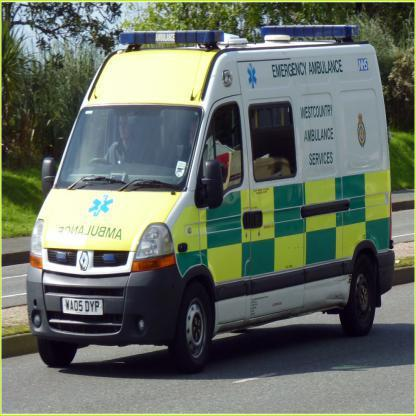Ambulance - v1 Ambulance last generate: (27, 25, 396, 374)
